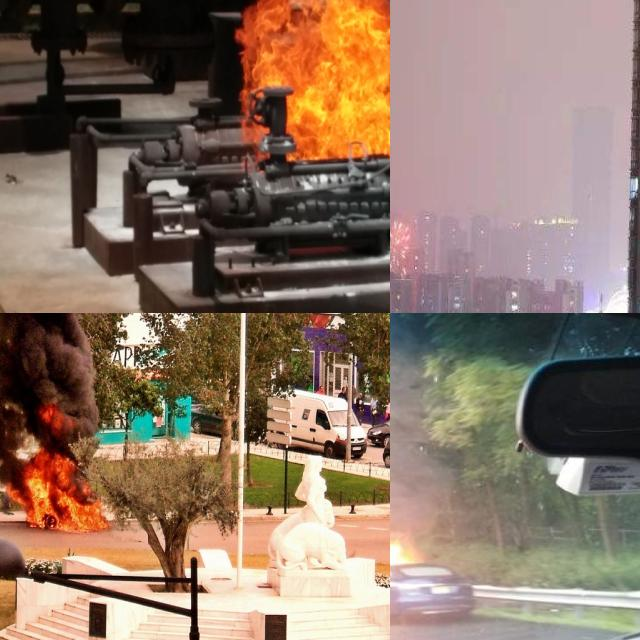fire: (239, 0, 390, 210), (4, 407, 114, 534), (390, 530, 419, 625)
smoke: (390, 314, 439, 531)
